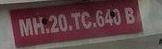0: (58, 13, 69, 32), (112, 8, 121, 26)
2: (47, 15, 60, 33)
4: (104, 9, 114, 26)
6: (95, 9, 105, 27)
B: (123, 6, 136, 25)
C: (81, 10, 92, 30)
H: (32, 16, 46, 35)
M: (16, 17, 34, 37)
T: (70, 11, 82, 30)
